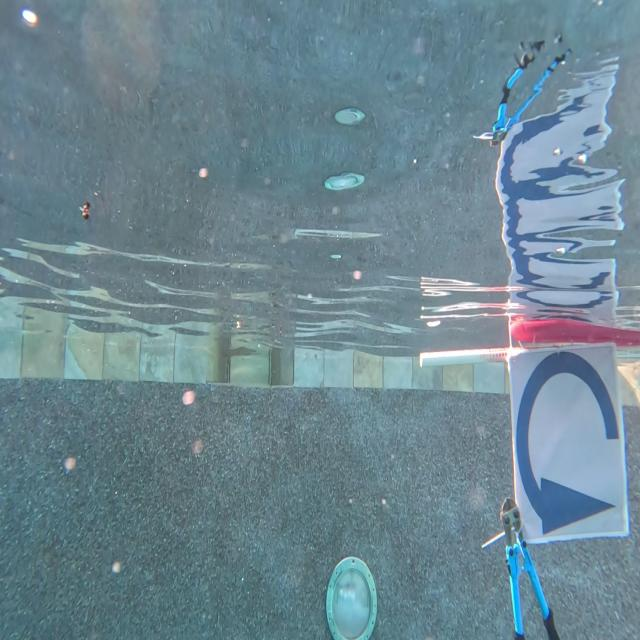blue_side: (515, 354, 621, 526)
